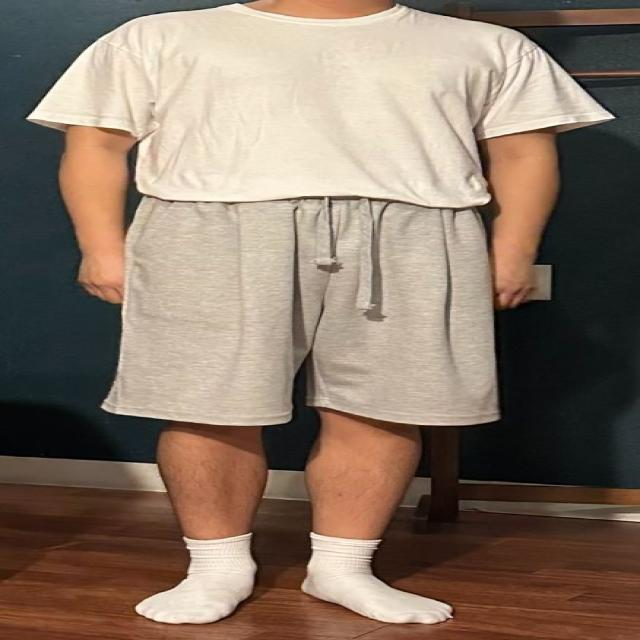shortpants: (98, 186, 503, 428)
shortsleeve: (20, 0, 609, 211)
